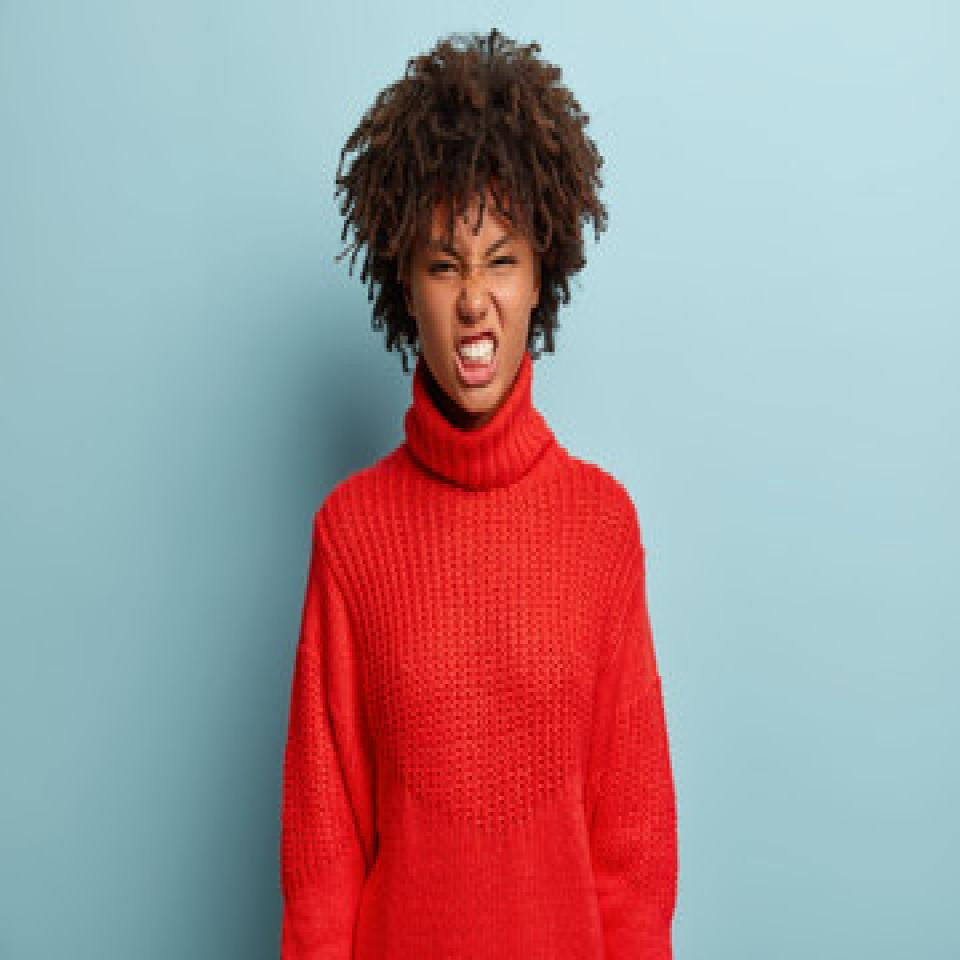Disgust: (407, 184, 537, 413)
